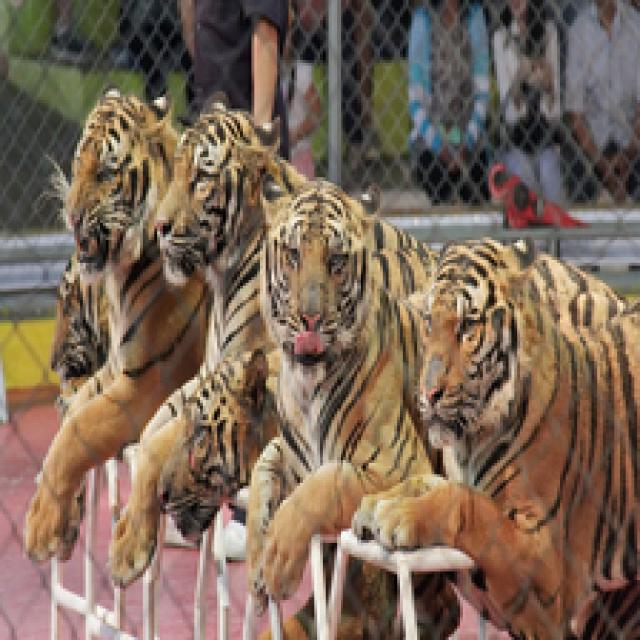tiger: (29, 72, 220, 567), (402, 245, 637, 640), (264, 151, 446, 640), (160, 101, 323, 547)
